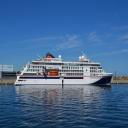cruises: (15, 53, 115, 88)
